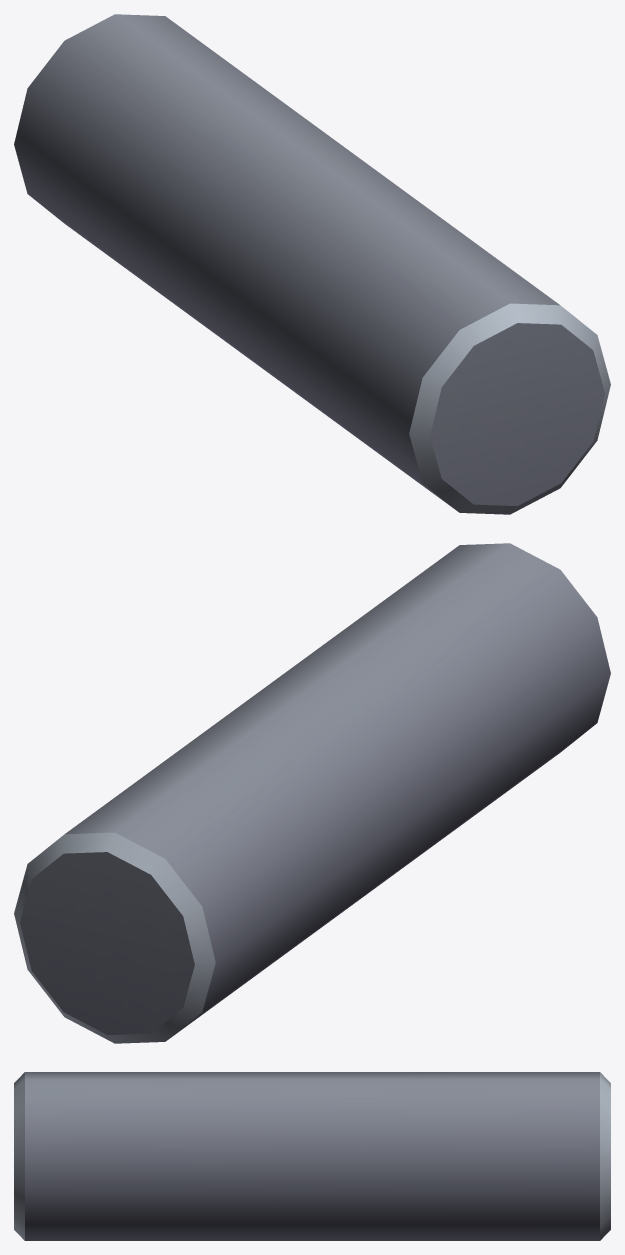
Rendered from elf_cog_rod.fbx.
The picture shows the model from 3 angles, top to bottom: view 1: azimuth 30°, elevation 25°; view 2: azimuth 150°, elevation 25°; view 3: azimuth 270°, elevation 25°; orthographic projection. The views are drawn at different scales.
Parts seen in each view (by area): view 1: elf_cog_rod; view 2: elf_cog_rod; view 3: elf_cog_rod.
Boxes of the visible parts, box(x1,y1,x2,y2) form: elf_cog_rod: box(14, 14, 610, 514); elf_cog_rod: box(14, 543, 610, 1043); elf_cog_rod: box(14, 1072, 610, 1240).
Size of the model in its own units: 81.61 by 81.61 by 287.
